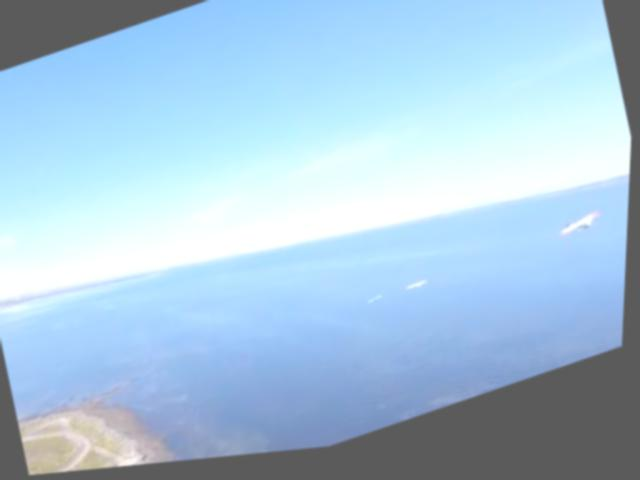uav: (559, 216, 605, 249), (406, 281, 433, 303)
